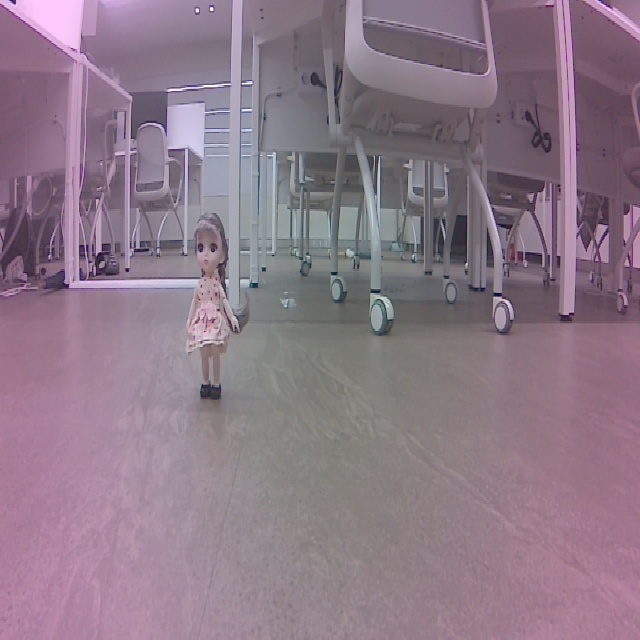장애물: (172, 207, 266, 409)
